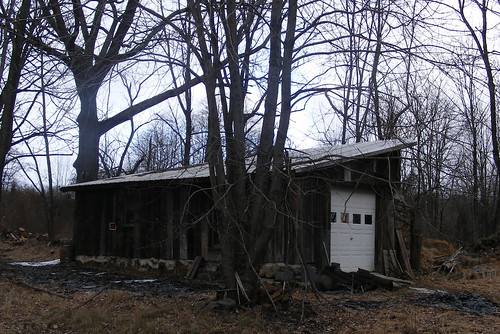building: (68, 150, 395, 289)
tree: (187, 1, 314, 299), (38, 1, 174, 221)
vegetation: (311, 1, 500, 197)
